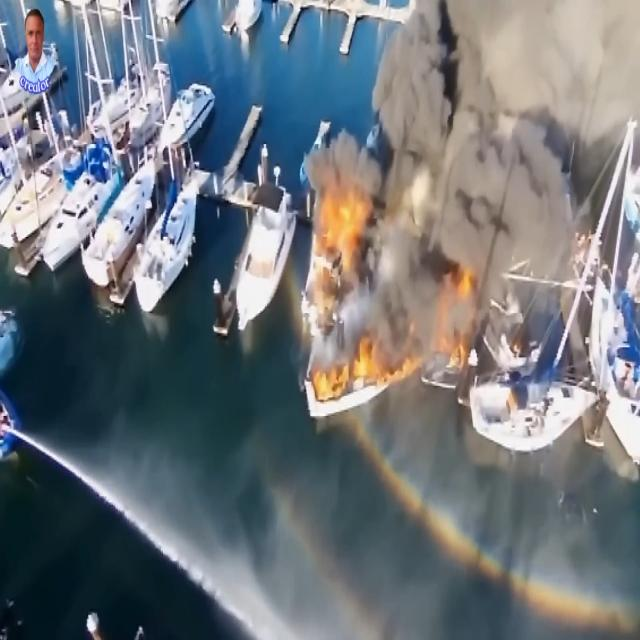fire: (316, 332, 376, 399), (318, 186, 367, 261)
smoke: (395, 0, 640, 116), (458, 120, 571, 267)
